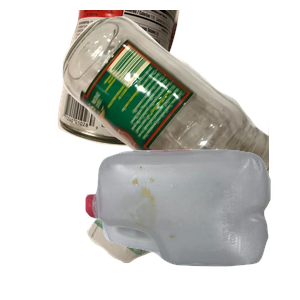glass: (60, 14, 300, 194)
metal: (55, 10, 227, 149)
plastic: (83, 147, 300, 300)
trash: (84, 133, 292, 300)
